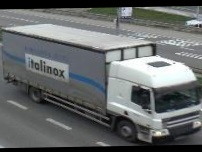truck: (2, 20, 202, 146)
